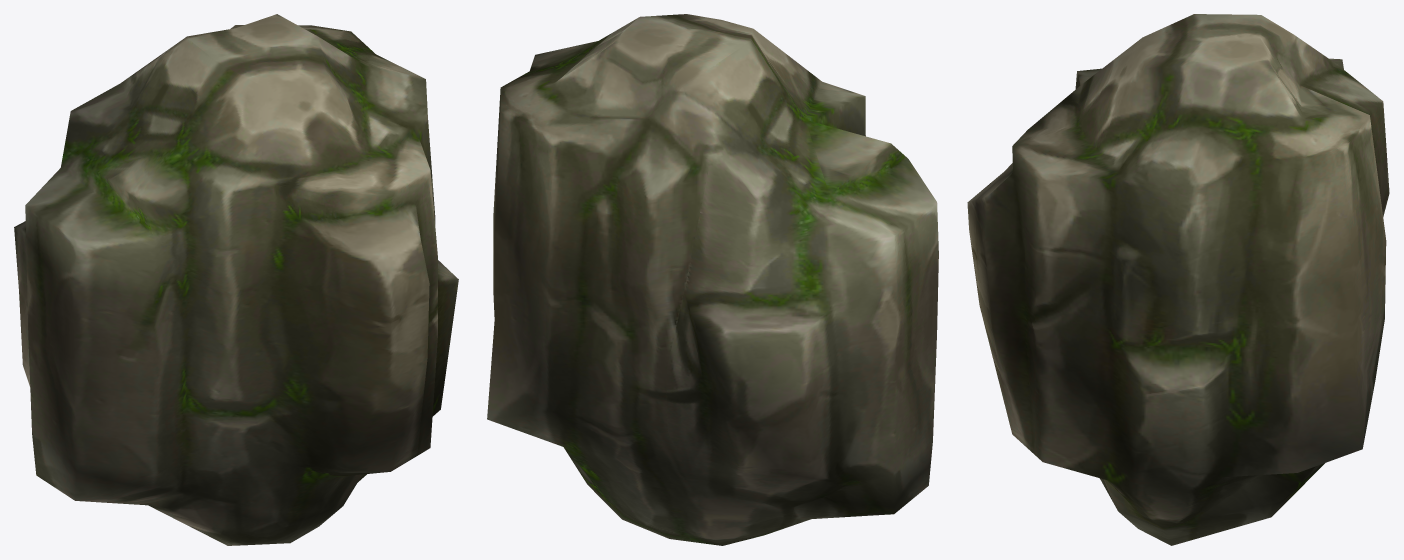
Rendered from RockFormation_4_2 (8).fbx.
The picture shows the model from 3 angles, left to right: view 1: azimuth 30°, elevation 25°; view 2: azimuth 150°, elevation 25°; view 3: azimuth 270°, elevation 25°; orthographic projection. The views are drawn at different scales.
Parts seen in each view (by area): view 1: RockFormation_4_2 (8); view 2: RockFormation_4_2 (8); view 3: RockFormation_4_2 (8).
Boxes of the visible parts, x1,y1,x2,y2 form: RockFormation_4_2 (8): (14,14,458,545); RockFormation_4_2 (8): (487,14,938,545); RockFormation_4_2 (8): (967,14,1389,545).
Size of the model in its own units: 199 by 237 by 182.
